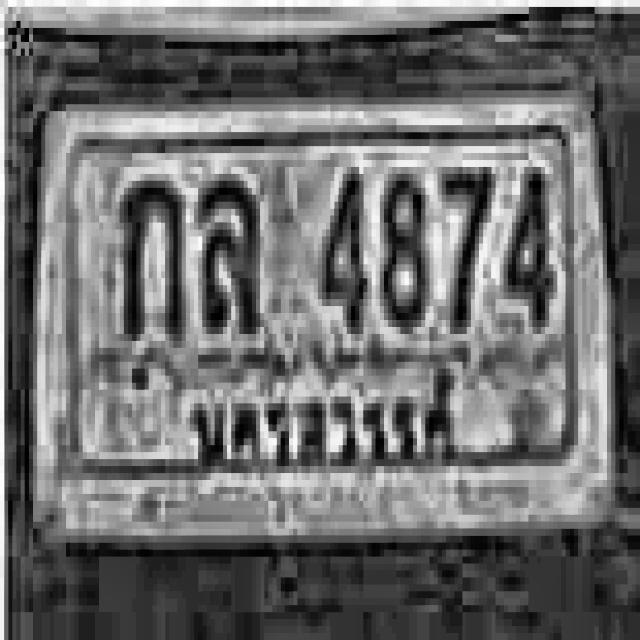license-plate: (34, 98, 619, 532)
